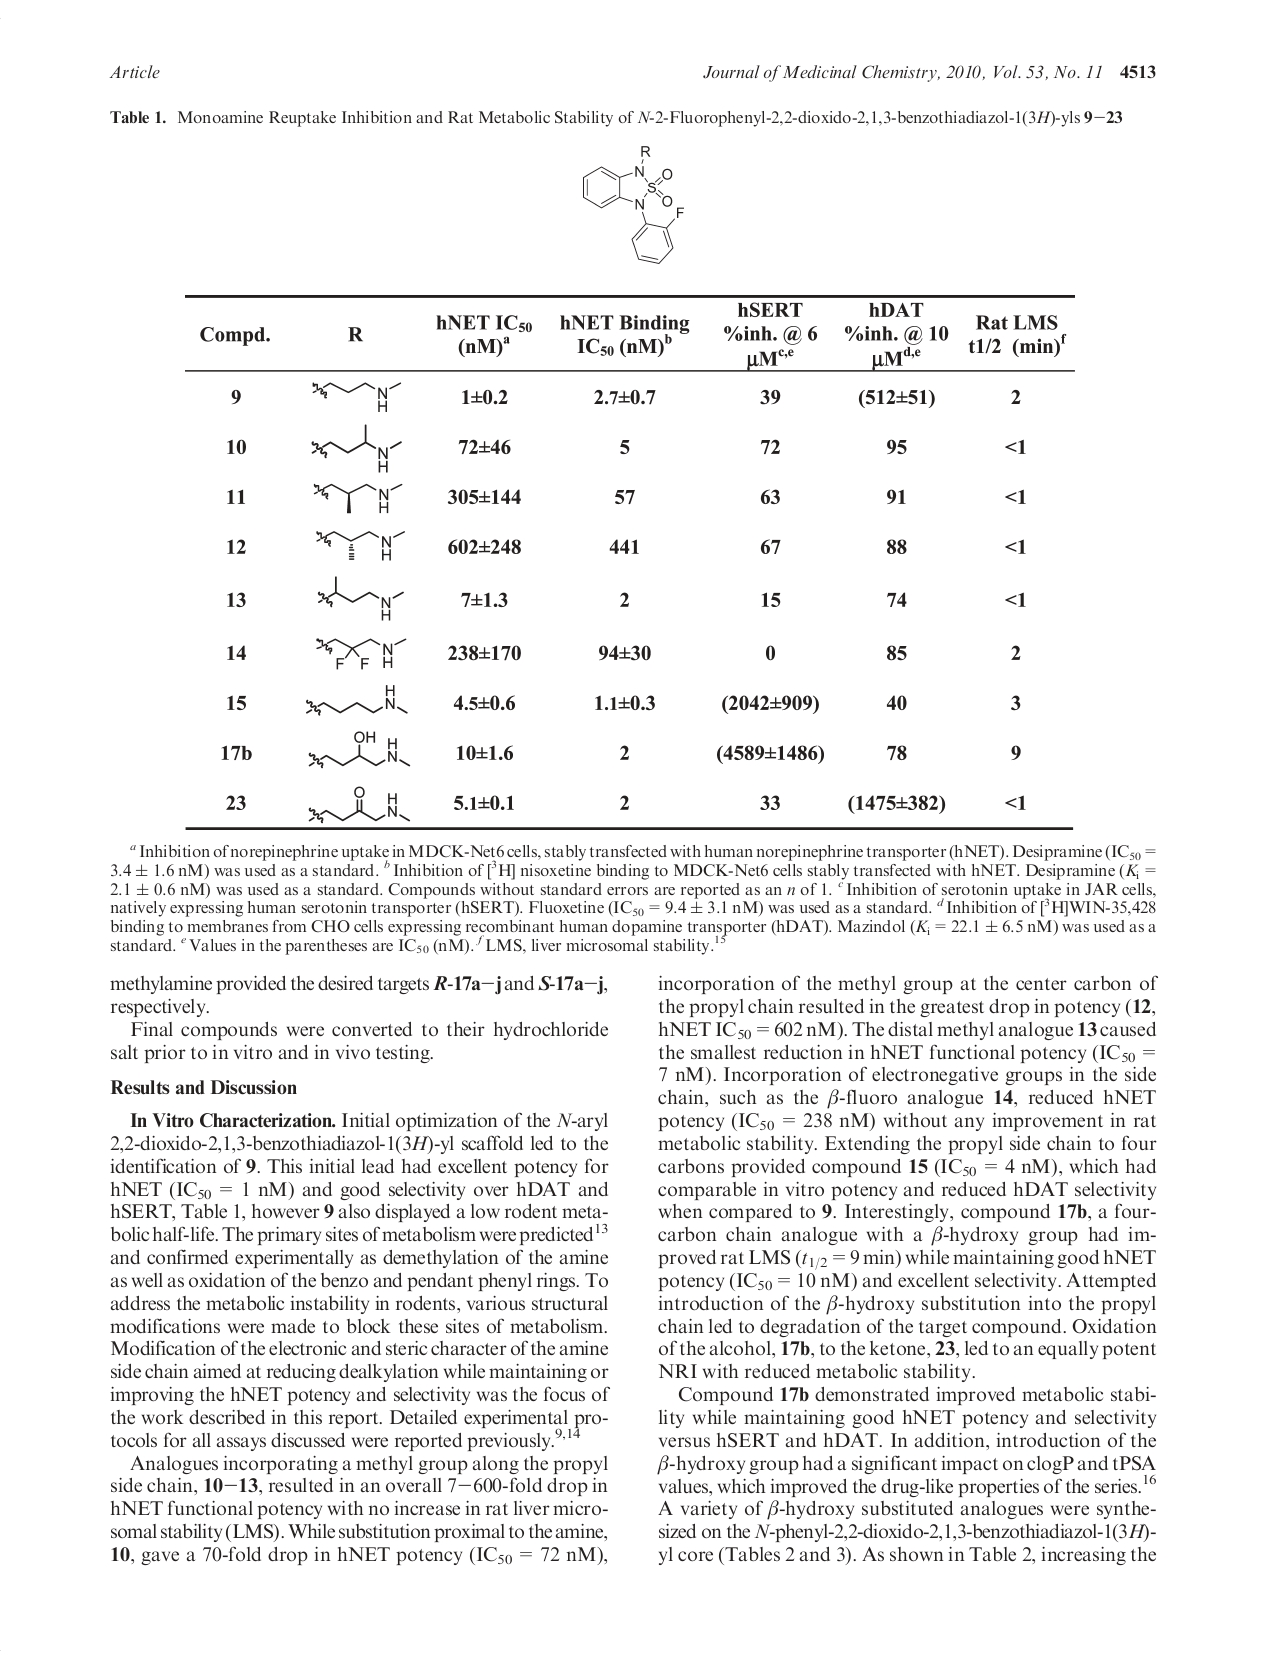exist_molecular: (570, 140, 693, 269), (302, 628, 416, 680), (302, 423, 414, 475), (307, 567, 411, 622), (297, 725, 414, 774), (301, 680, 414, 725), (307, 475, 407, 525), (302, 523, 414, 565), (299, 376, 415, 416), (301, 782, 407, 825)
